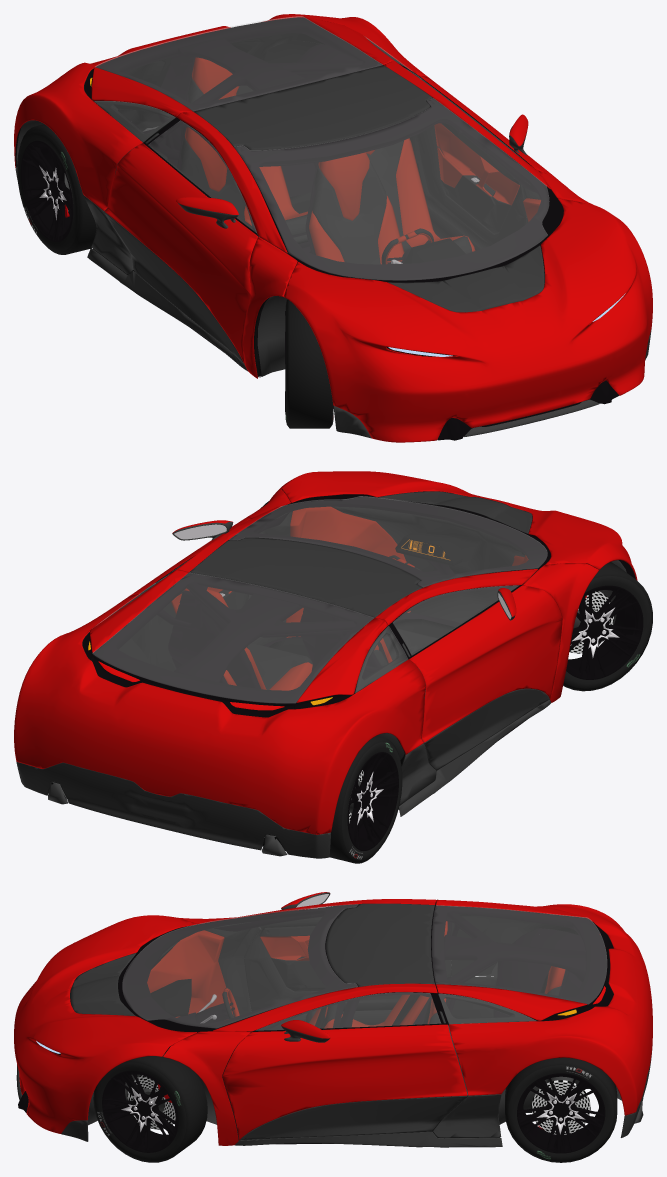
The model's file is concept.glb.
The picture shows the model from 3 angles, top to bottom: view 1: azimuth 30°, elevation 25°; view 2: azimuth 150°, elevation 25°; view 3: azimuth 270°, elevation 25°; orthographic projection. The views are drawn at different scales.
Visible parts, largest first — view 1: BodyHood, BodyWindshield, BodyRearwindow, BodyDoorRColor1, BodyRearPanelsColor1, BodyWindshieldGasket, BodyRoofPanel, InteriorSeatsColor1, InteriorSeatsColor2, BodyPillars, InteriorPillar, InteriorRearHatch (+20 smaller); view 2: BodyRearPanelsColor1, BodyRearwindow, BodyWindshield, BodyPanelsColor2, BodyDoorRColor1, BodyRoofPanel, BodyHood, InteriorRearHatch, BodyPillars, InteriorPillar, BodyWindshieldGasket, InteriorDashMid (+20 smaller); view 3: BodyWindshield, BodyRearPanelsColor1, BodyDoorLColor1, BodyHood, BodyRearwindow, BodyRoofPanel, BodyPillars, BodyWindshieldGasket, BodyDoorLColor2, BodyPanelsColor2, WheelFrontL, InteriorRearHatch (+24 smaller).
Part boxes in pixels (x1=…): BodyHood: x1=283, y1=198, x2=652, y2=442; BodyWindshield: x1=234, y1=98, x2=549, y2=280; BodyRearwindow: x1=95, y1=16, x2=382, y2=110; BodyDoorRColor1: x1=104, y1=143, x2=257, y2=363; BodyRearPanelsColor1: x1=14, y1=14, x2=428, y2=210; BodyWindshieldGasket: x1=234, y1=99, x2=563, y2=282; BodyRoofPanel: x1=193, y1=65, x2=432, y2=150; InteriorSeatsColor1: x1=185, y1=57, x2=475, y2=264; InteriorSeatsColor2: x1=180, y1=78, x2=472, y2=264; BodyPillars: x1=176, y1=61, x2=598, y2=378; InteriorPillar: x1=158, y1=37, x2=434, y2=168; InteriorRearHatch: x1=93, y1=17, x2=383, y2=117; BodyRearPanelsColor1: x1=14, y1=569, x2=425, y2=834; BodyRearwindow: x1=92, y1=573, x2=373, y2=703; BodyWindshield: x1=229, y1=496, x2=547, y2=587; BodyPanelsColor2: x1=16, y1=700, x2=550, y2=858; BodyDoorRColor1: x1=409, y1=585, x2=562, y2=742; BodyRoofPanel: x1=189, y1=537, x2=422, y2=617; BodyHood: x1=279, y1=471, x2=637, y2=580; InteriorRearHatch: x1=93, y1=573, x2=386, y2=707; BodyPillars: x1=175, y1=489, x2=599, y2=702; InteriorPillar: x1=174, y1=574, x2=417, y2=682; BodyWindshieldGasket: x1=230, y1=495, x2=550, y2=587; InteriorDashMid: x1=331, y1=503, x2=528, y2=622; BodyWindshield: x1=122, y1=904, x2=357, y2=1028; BodyRearPanelsColor1: x1=436, y1=899, x2=652, y2=1115; BodyDoorLColor1: x1=222, y1=1024, x2=467, y2=1139; BodyHood: x1=14, y1=915, x2=196, y2=1133; BodyRearwindow: x1=432, y1=905, x2=606, y2=1003; BodyRoofPanel: x1=326, y1=903, x2=434, y2=986; BodyPillars: x1=163, y1=899, x2=437, y2=1145; BodyWindshieldGasket: x1=118, y1=905, x2=357, y2=1032; BodyDoorLColor2: x1=240, y1=1096, x2=467, y2=1140; BodyPanelsColor2: x1=16, y1=1045, x2=652, y2=1147; WheelFrontL: x1=93, y1=1054, x2=207, y2=1162; InteriorRearHatch: x1=431, y1=905, x2=606, y2=1020.
Size of the model in its own units: 2.54 by 1.15 by 4.36.
22 materials, 5 textured.
